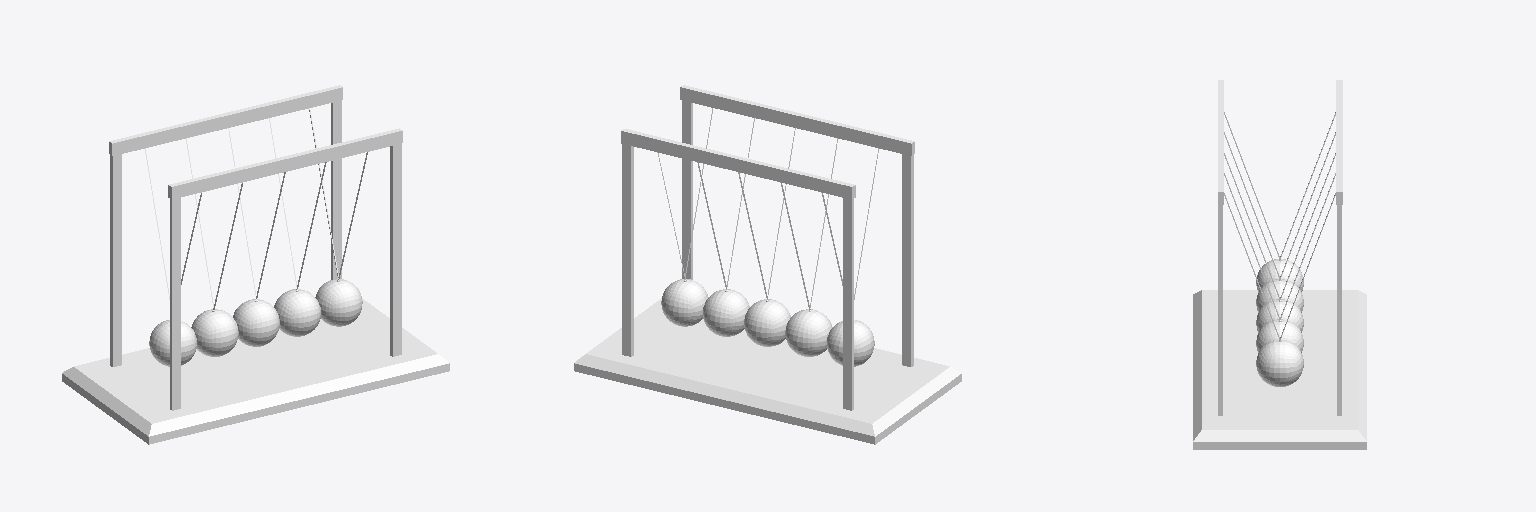
The picture shows the model from 3 angles: view 1: azimuth 30°, elevation 25°; view 2: azimuth 150°, elevation 25°; view 3: azimuth 270°, elevation 25°; orthographic projection.
Visible parts, largest first — view 1: obj4, obj0, obj3, obj1; view 2: obj4, obj0, obj3, obj1; view 3: obj4, obj3, obj0, obj1.
Part boxes in pixels (bbox=[...]): obj4: bbox=[62, 298, 449, 444]; obj0: bbox=[109, 85, 402, 410]; obj3: bbox=[149, 279, 362, 366]; obj1: bbox=[145, 108, 367, 310]; obj4: bbox=[574, 298, 961, 444]; obj0: bbox=[621, 85, 914, 410]; obj3: bbox=[661, 279, 874, 366]; obj1: bbox=[657, 108, 878, 310]; obj4: bbox=[1193, 290, 1366, 449]; obj3: bbox=[1256, 259, 1303, 386]; obj0: bbox=[1218, 80, 1342, 415]; obj1: bbox=[1224, 112, 1335, 340].
Size of the model in its own units: 34.47 by 26.21 by 17.24.
5 materials, 5 textured.